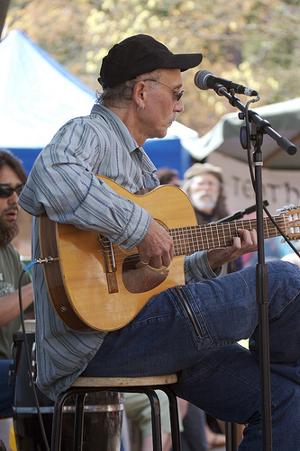person: (20, 34, 300, 450)
